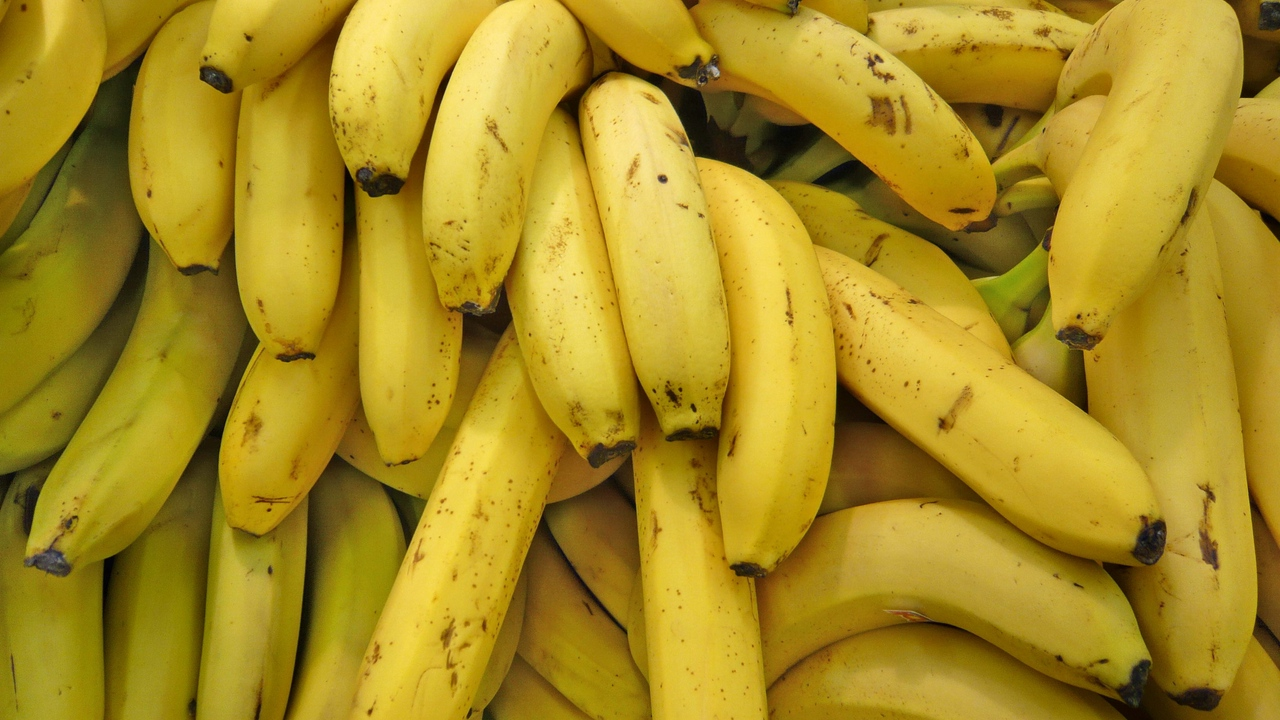banana: (834, 265, 1165, 540), (335, 336, 562, 720), (786, 503, 1192, 686), (1040, 1, 1230, 382), (1112, 316, 1280, 708), (717, 2, 1003, 227), (722, 174, 865, 618), (43, 233, 207, 598), (418, 1, 569, 326), (596, 84, 724, 447), (344, 182, 493, 475), (504, 138, 630, 449), (234, 75, 344, 378), (137, 37, 237, 284), (309, 1, 442, 185), (195, 502, 295, 720), (217, 373, 336, 546), (2, 1, 107, 171), (196, 1, 320, 108)
